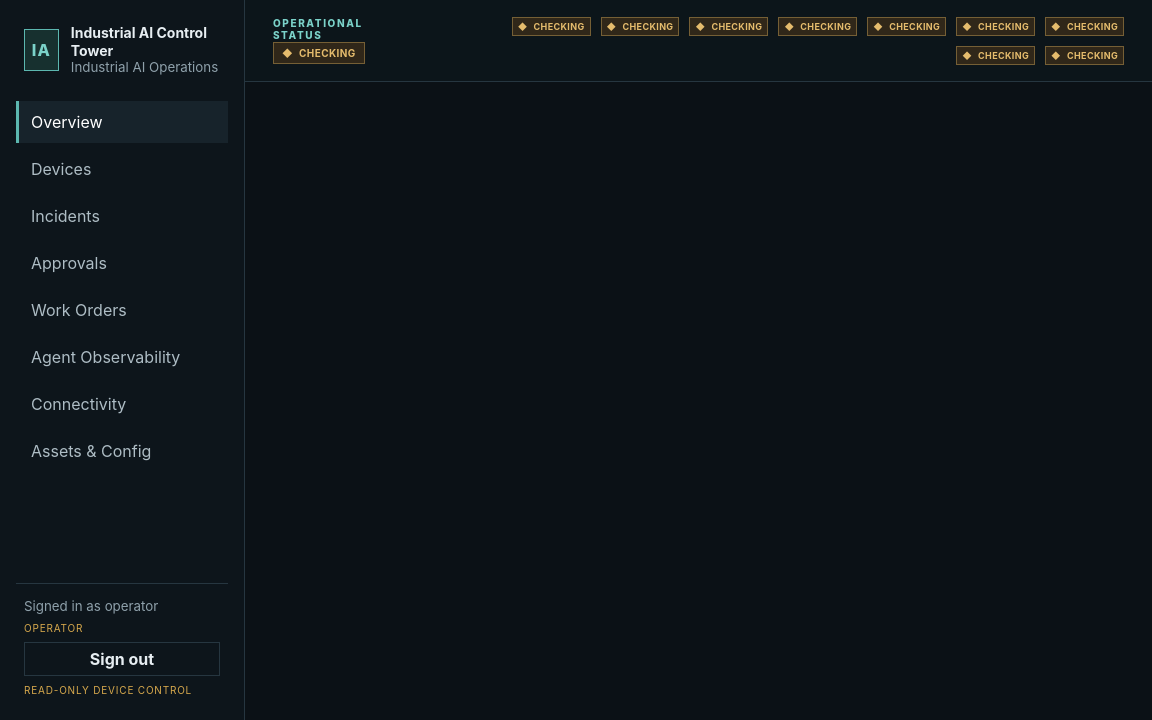
Test: shell session controls › shows the signed-in identity and signs out on request
This screenshot has width=1152, height=720.
Check: the text "Signed in as operator" is shown, box [24, 598, 158, 614]
Check: the text "OPERATOR" is shown, box [24, 622, 83, 634]
Click the button "Sign out": (122, 659) [24, 642, 220, 676]
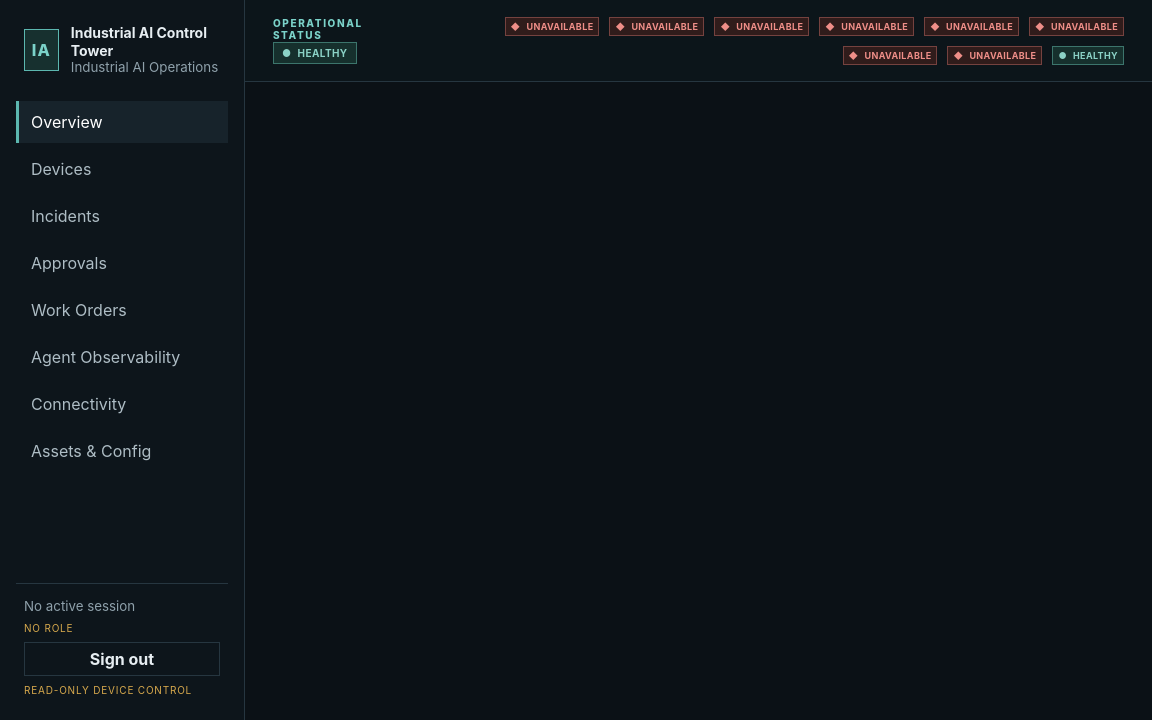
Check: the text "No active session" is shown, box [24, 598, 135, 614]
